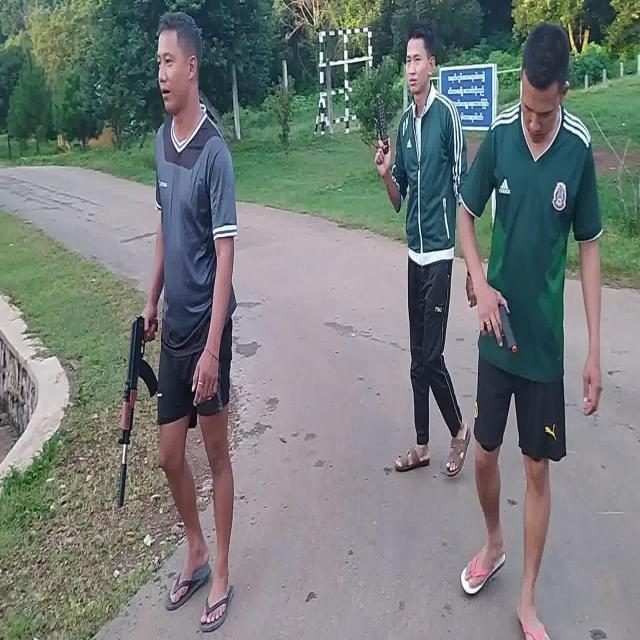gun: (117, 316, 157, 508), (485, 304, 517, 352)
